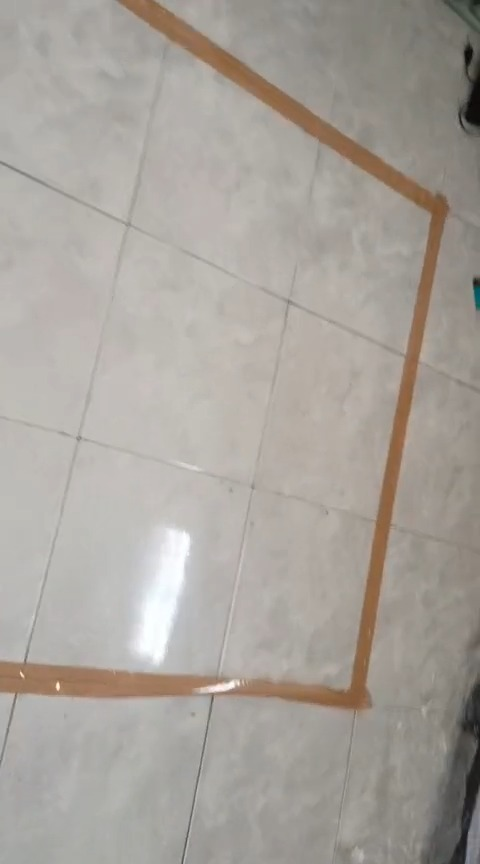floor marking: (0, 0, 447, 710)
